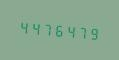four: (17, 16, 28, 37), (29, 17, 40, 38), (65, 20, 76, 41)
nine: (89, 22, 100, 43)
seven: (41, 18, 52, 39), (77, 21, 88, 42)
six: (53, 19, 64, 40)
